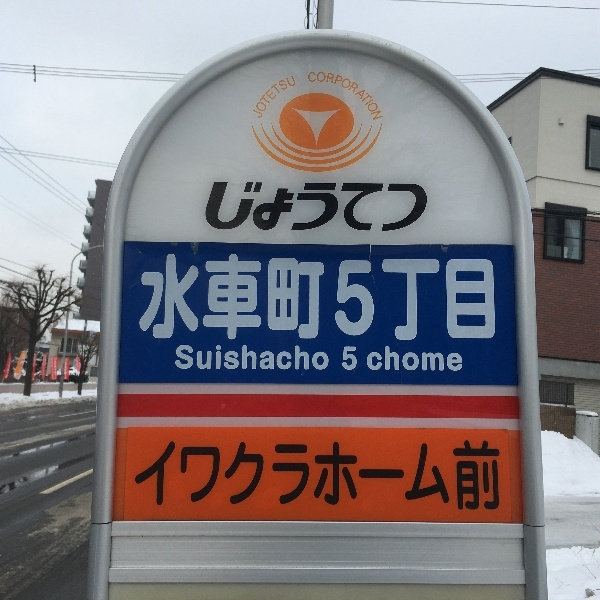text: (481, 253, 497, 344), (145, 253, 160, 344), (161, 253, 176, 344), (177, 253, 192, 344), (193, 253, 208, 344), (209, 253, 224, 344), (225, 253, 240, 344), (241, 253, 256, 344), (257, 253, 272, 344), (273, 253, 288, 344), (289, 253, 304, 344), (305, 253, 320, 344), (321, 253, 336, 344), (337, 253, 352, 344), (353, 253, 368, 344), (369, 253, 384, 344), (385, 253, 400, 344), (401, 253, 416, 344), (417, 253, 432, 344), (433, 253, 448, 344), (449, 253, 464, 344), (465, 253, 480, 344), (145, 440, 160, 511), (161, 440, 176, 511), (177, 440, 192, 511), (193, 440, 208, 511), (209, 440, 224, 511), (225, 440, 240, 511), (241, 440, 256, 511), (257, 440, 272, 511), (273, 440, 288, 511), (289, 440, 304, 511), (305, 440, 320, 511), (321, 440, 336, 511), (337, 440, 352, 511), (353, 440, 368, 511), (369, 440, 384, 511), (385, 440, 400, 511), (401, 440, 416, 511), (417, 440, 432, 511), (433, 440, 448, 511), (449, 440, 464, 511), (465, 440, 480, 511), (481, 440, 496, 511), (353, 56, 368, 121), (369, 56, 384, 121), (257, 61, 272, 119), (273, 61, 288, 119), (225, 180, 240, 235), (241, 180, 256, 235), (257, 180, 272, 235), (273, 180, 288, 235), (289, 180, 304, 235), (305, 180, 320, 235), (321, 180, 336, 235), (337, 180, 352, 235), (353, 180, 368, 235), (369, 180, 384, 235), (385, 180, 400, 235), (401, 180, 416, 235), (417, 180, 431, 235), (341, 56, 352, 121), (215, 180, 224, 235), (289, 61, 297, 119), (138, 440, 144, 511), (177, 344, 192, 372), (193, 344, 208, 372), (209, 344, 224, 372), (225, 344, 240, 372), (241, 344, 256, 372), (257, 344, 272, 372), (273, 344, 288, 372), (289, 344, 304, 372), (305, 344, 320, 372), (369, 346, 384, 372), (385, 346, 400, 372), (401, 346, 416, 372), (417, 346, 432, 372), (433, 346, 448, 372), (497, 440, 502, 511), (449, 346, 462, 372), (321, 344, 329, 372), (343, 347, 352, 371), (253, 61, 256, 119), (353, 347, 357, 371), (143, 253, 144, 344), (385, 56, 386, 121)
